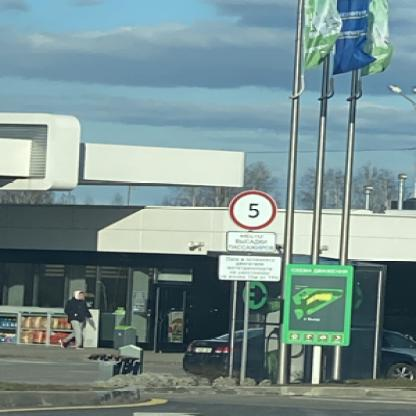speedlimit: (226, 190, 275, 229)
